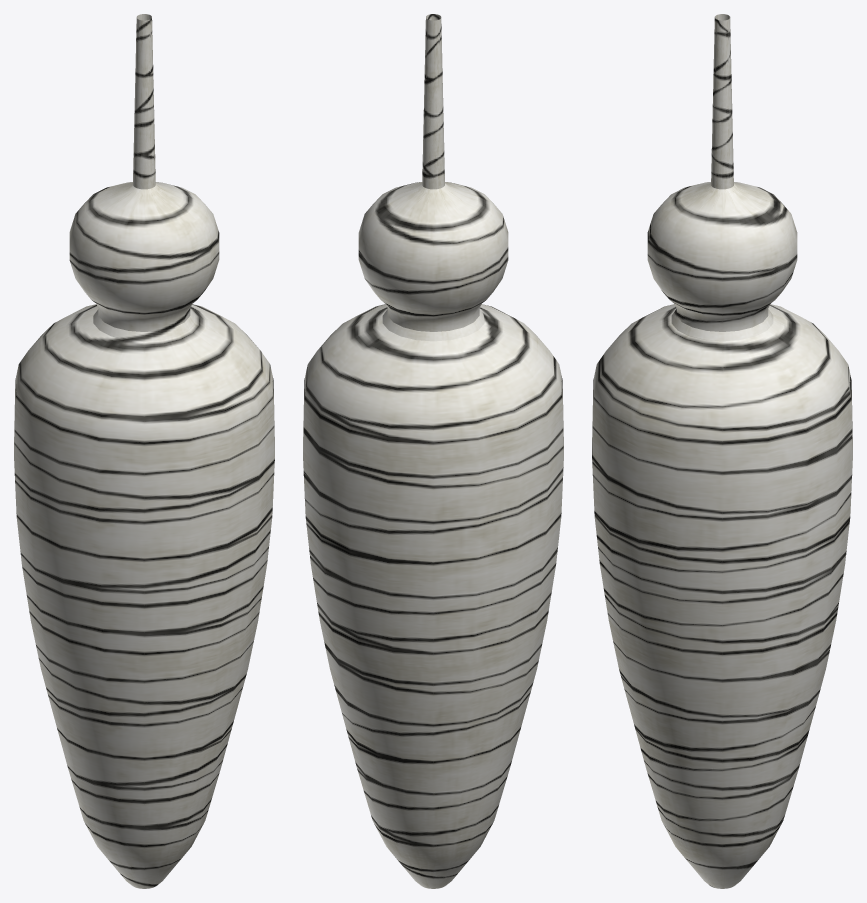
Rendered from CorporMummy_01.FBX.
3 views of the same model, side by side, from view 1: azimuth 30°, elevation 25°; view 2: azimuth 150°, elevation 25°; view 3: azimuth 270°, elevation 25° (orthographic).
Parts seen in each view (by area): view 1: Cylinder001; view 2: Cylinder001; view 3: Cylinder001.
Boxes of the visible parts, x1,y1,x2,y2 form: Cylinder001: (14,14,274,888); Cylinder001: (303,14,563,888); Cylinder001: (592,14,852,888).
Bounding box in the file's own units: 74.4 × 268 × 73.27.
